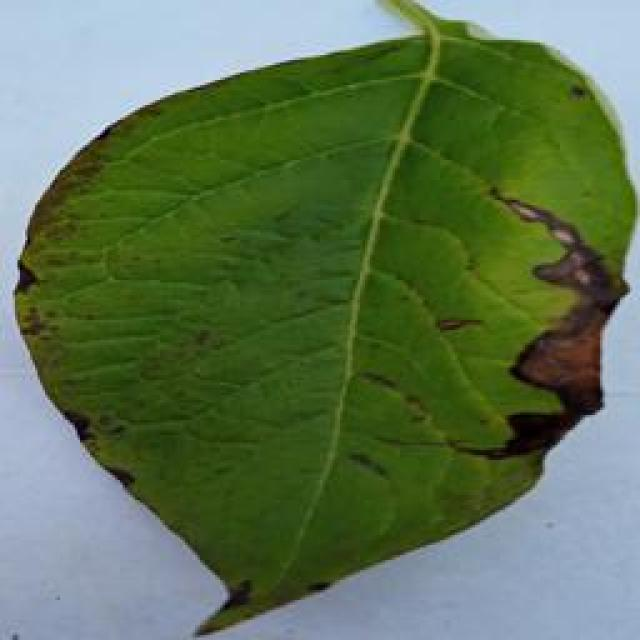Potato_Late_Blight: (16, 1, 624, 631)
